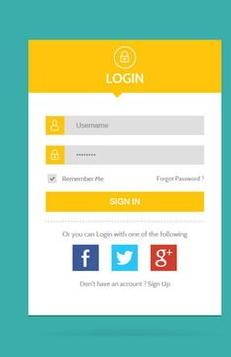button: (44, 190, 205, 213)
checkbox: (47, 173, 57, 185)
checkbox_with_label: (44, 171, 104, 187)
field: (62, 114, 204, 137), (63, 144, 205, 166)
